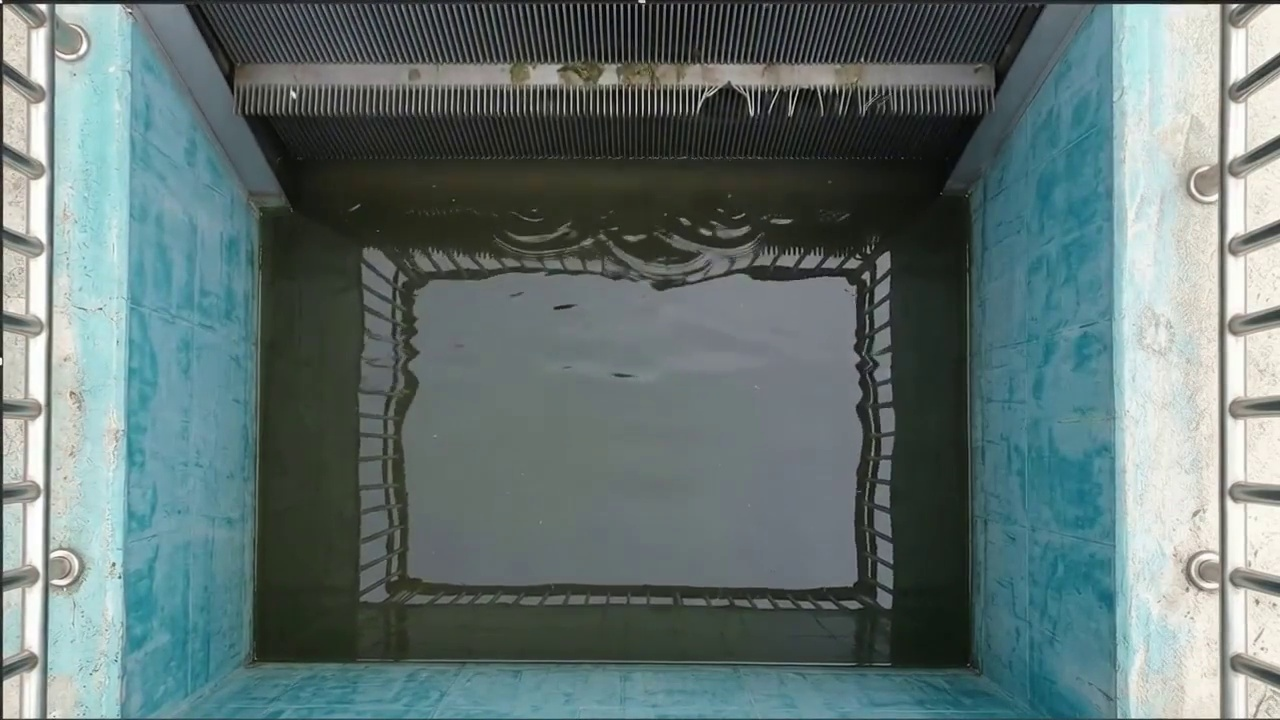damage: (690, 75, 894, 128)
